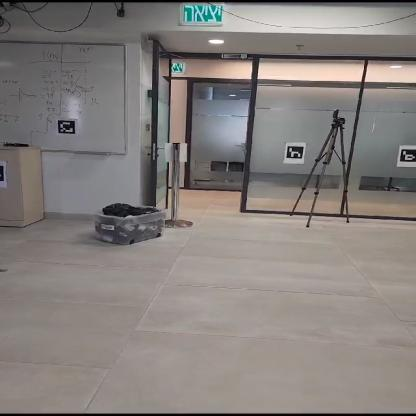open: (156, 75, 260, 223)
